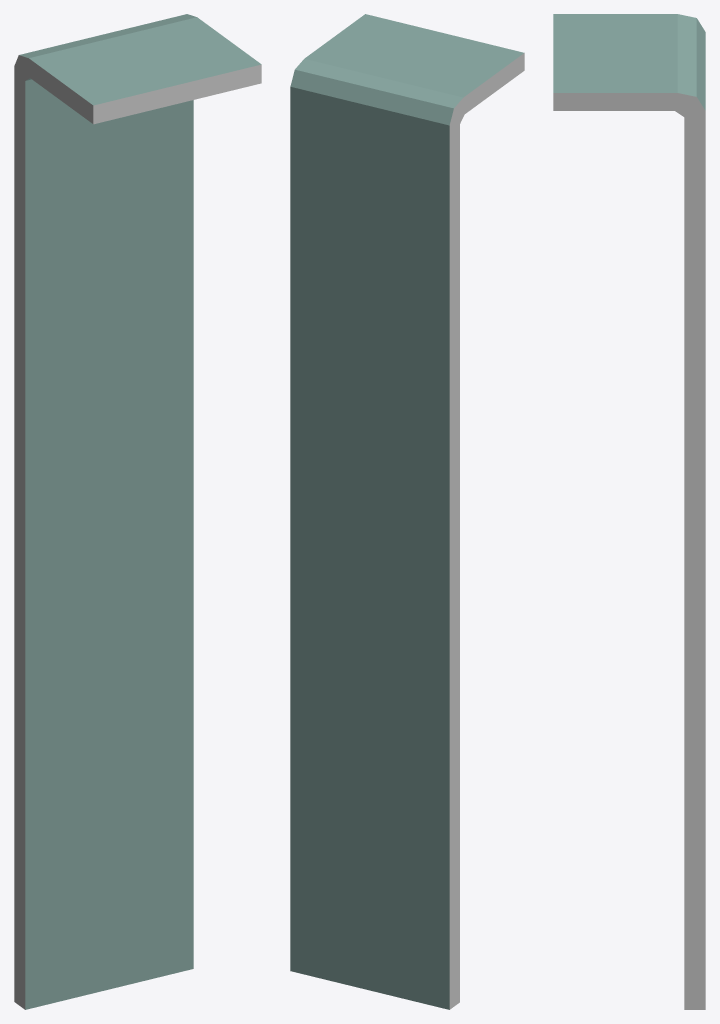
File: decoration_waterfall.fbx
3 views of the same model, side by side, from view 1: azimuth 30°, elevation 25°; view 2: azimuth 150°, elevation 25°; view 3: azimuth 270°, elevation 25° (orthographic). The views are drawn at different scales.
Parts seen in each view (by area): view 1: motherboard.wires.002; view 2: motherboard.wires.002; view 3: motherboard.wires.002.
Part boxes in pixels (x1=…): motherboard.wires.002: x1=14, y1=14, x2=261, y2=1009; motherboard.wires.002: x1=290, y1=14, x2=524, y2=1009; motherboard.wires.002: x1=553, y1=14, x2=705, y2=1009.
Bounding box in the file's own units: 127 × 690 × 104.
